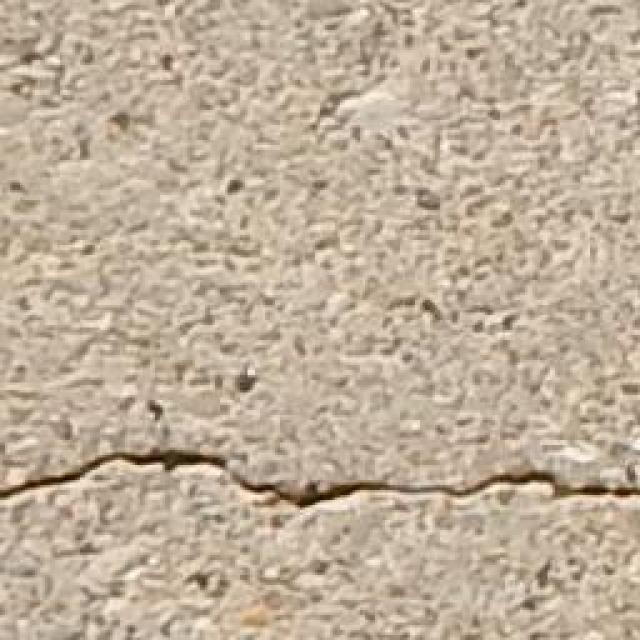concrete-crack: (0, 446, 640, 512)
